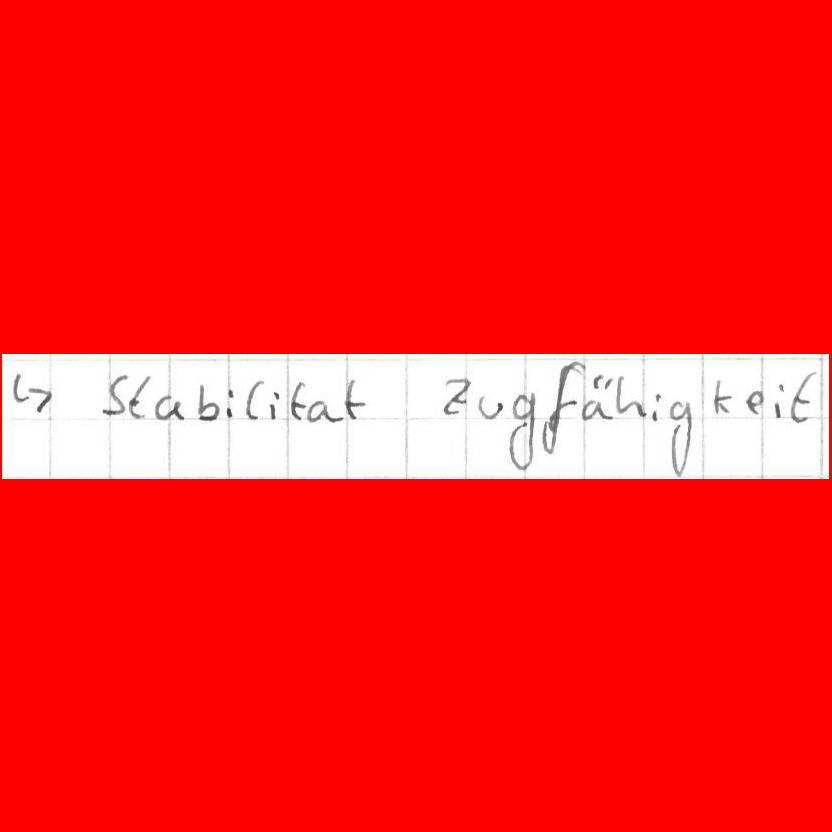Char: (540, 357, 584, 453), (506, 387, 540, 473), (8, 366, 59, 416), (667, 398, 693, 478), (578, 371, 615, 424), (615, 372, 646, 419), (790, 370, 816, 425), (99, 370, 128, 419), (441, 375, 471, 416), (127, 375, 154, 420), (342, 377, 369, 421), (304, 396, 345, 424), (151, 391, 187, 420), (197, 381, 220, 423), (242, 378, 265, 420), (477, 393, 508, 423), (711, 376, 734, 415), (289, 380, 308, 421), (745, 387, 765, 417), (771, 382, 785, 420), (268, 388, 281, 421), (650, 391, 663, 423), (224, 387, 234, 418)
